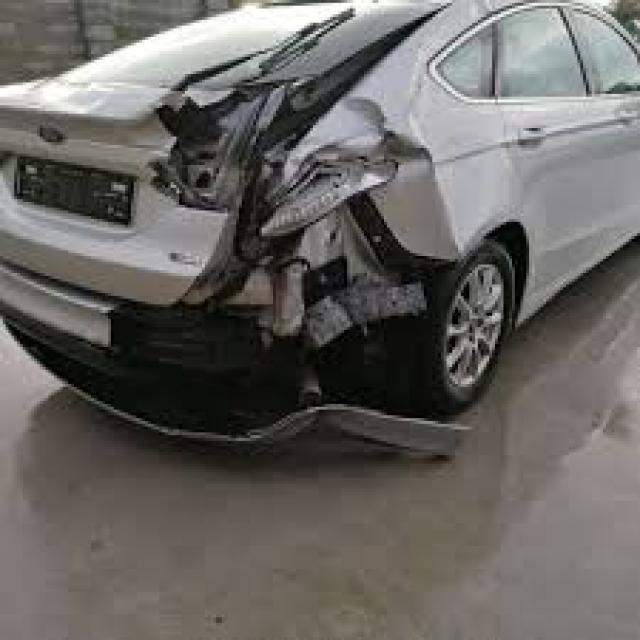damaged-trunk: (0, 93, 268, 301)
